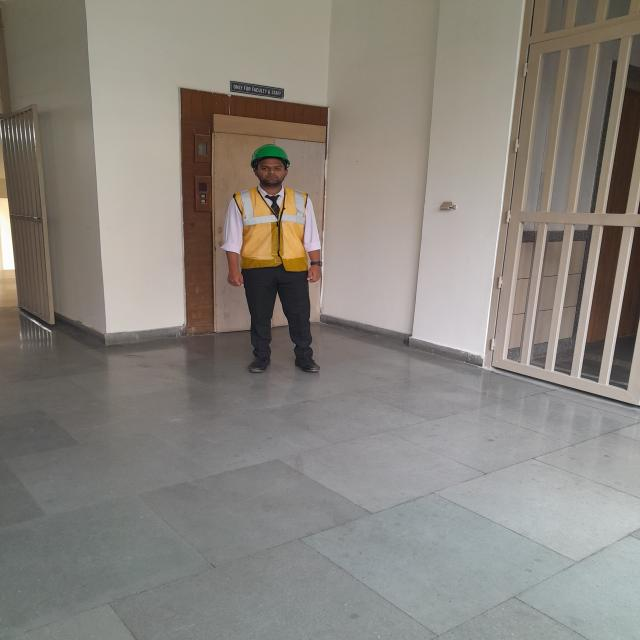safe: (225, 144, 322, 371)
